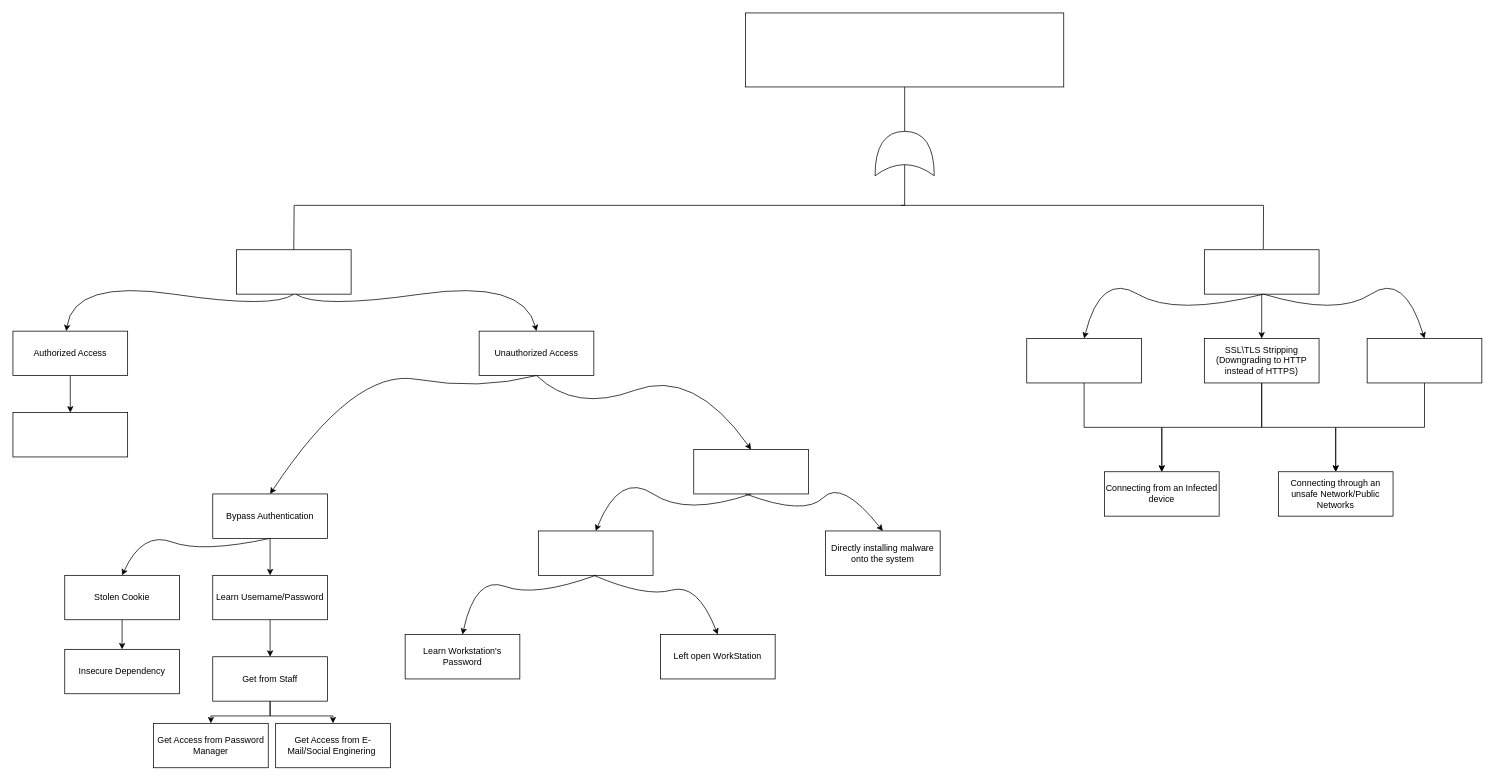
This 1495x781 diagram has some shape labels left out. Each missing label, with the centre of its shape:
Direct Access: the point at 595,552
Hack Financial DataBase: the point at 293,271
Intercept Communication: the point at 1261,271
Internal Staff: the point at 70,434
Packet Sniffing: the point at 1424,360
Pharming: the point at 1083,360
Physical Access: the point at 750,471
Steal Financial Data: the point at 904,49
